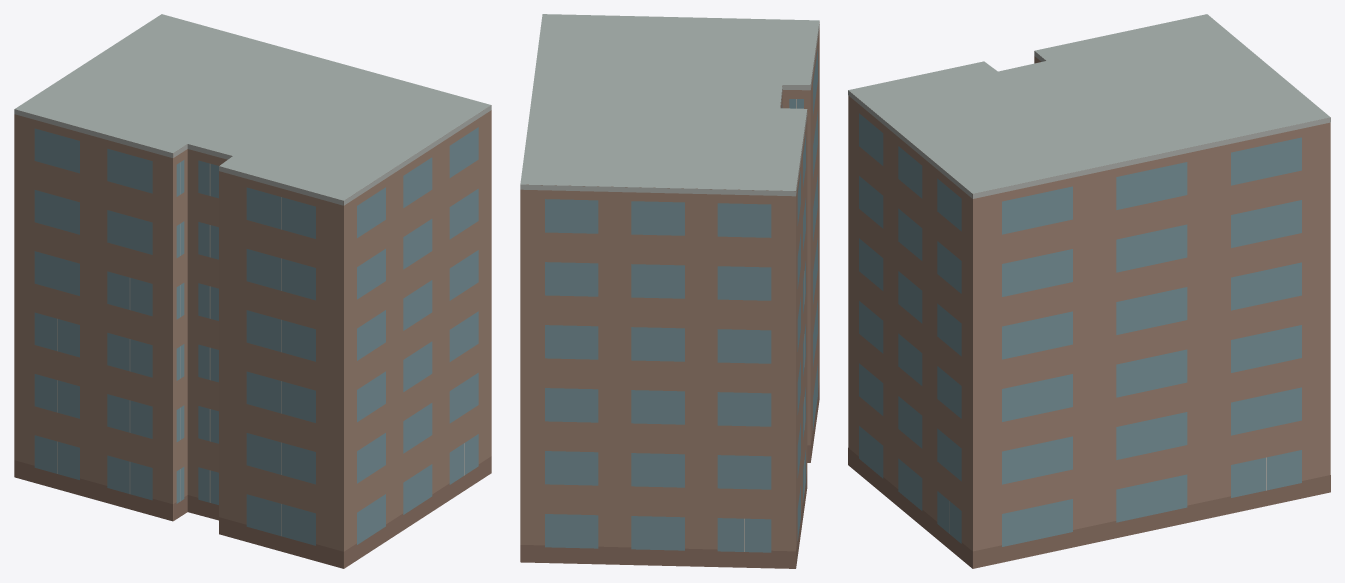
File: survey-upis-33026503.glb
3 renders of one model, left to right at view 1: azimuth 30°, elevation 25°; view 2: azimuth 150°, elevation 25°; view 3: azimuth 270°, elevation 25°, orthographic. The views are drawn at different scales.
Visible parts, largest first — view 1: survey-upis-33026503.tmp; view 2: survey-upis-33026503.tmp; view 3: survey-upis-33026503.tmp.
Part boxes in pixels (x1,y1,x2,y2): survey-upis-33026503.tmp: (14,14,491,568); survey-upis-33026503.tmp: (520,14,819,568); survey-upis-33026503.tmp: (848,14,1330,568).
Bounding box in the file's own units: 18.43 × 17.9 × 20.89.
